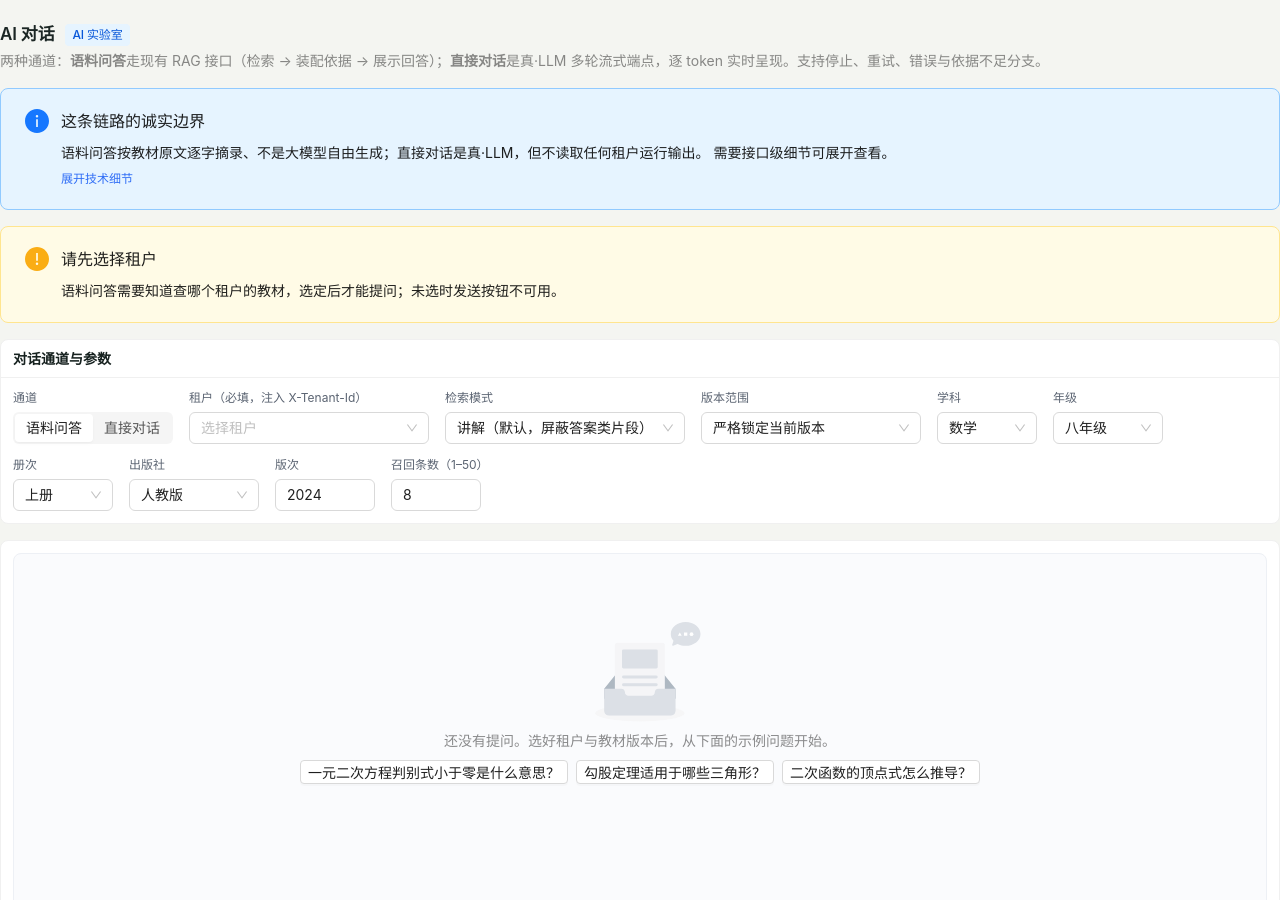
Test: AiChatPage · 空态与参数门禁 › ✅ 点示例问题回填输入框，不自动发送
The image size is (1280, 900).
What coordinates should you click on to do the following:
click the button "勾股定理适用于哪些三角形？"
I would click on:
 (675, 772)
Its box is [576, 760, 774, 784].
(page scrolled)
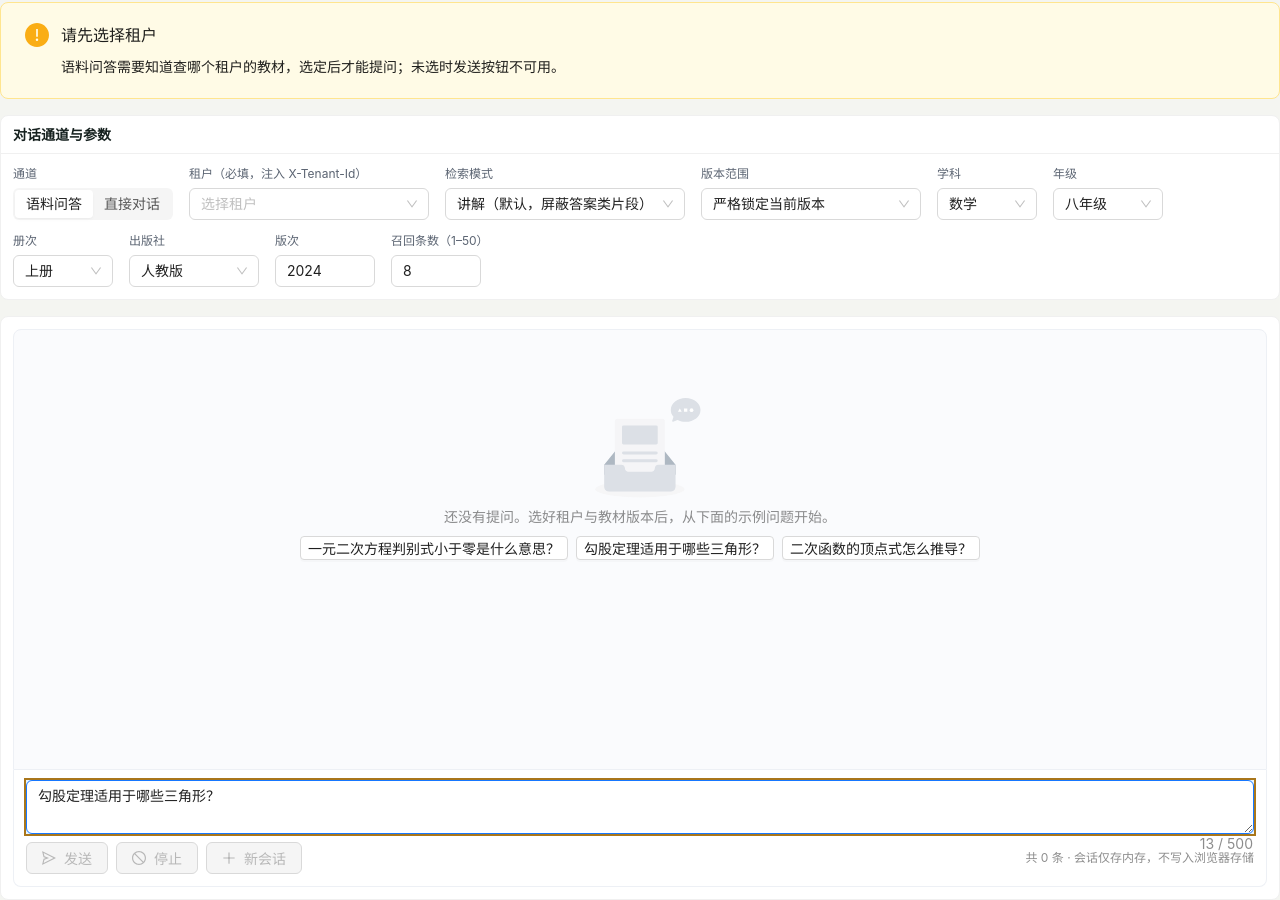
expect the text box with placeholder "输入问题…（Enter 发送，Shift+Enter 换行；等待期间仍可继续输入）" holds "勾股定理适用于哪些三角形？": met, box [27, 781, 1253, 833]
